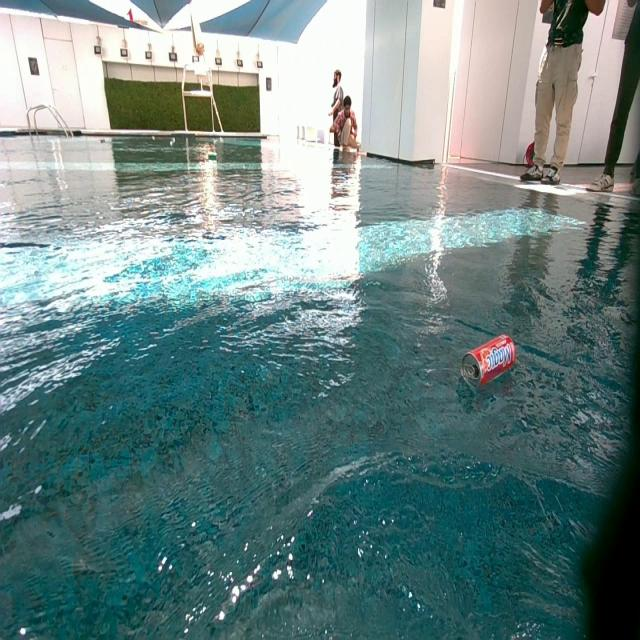Cans: (462, 333, 517, 390), (208, 150, 218, 160), (170, 139, 177, 147), (100, 139, 106, 146), (151, 136, 156, 142)
